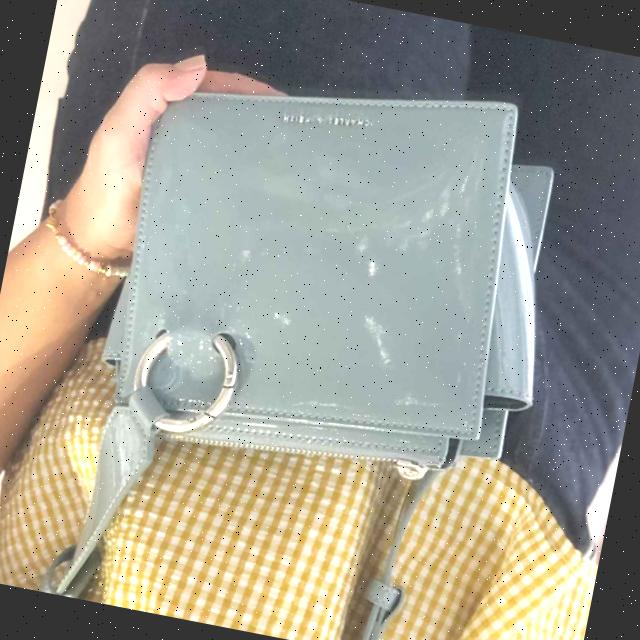handbag: (29, 0, 605, 519)
